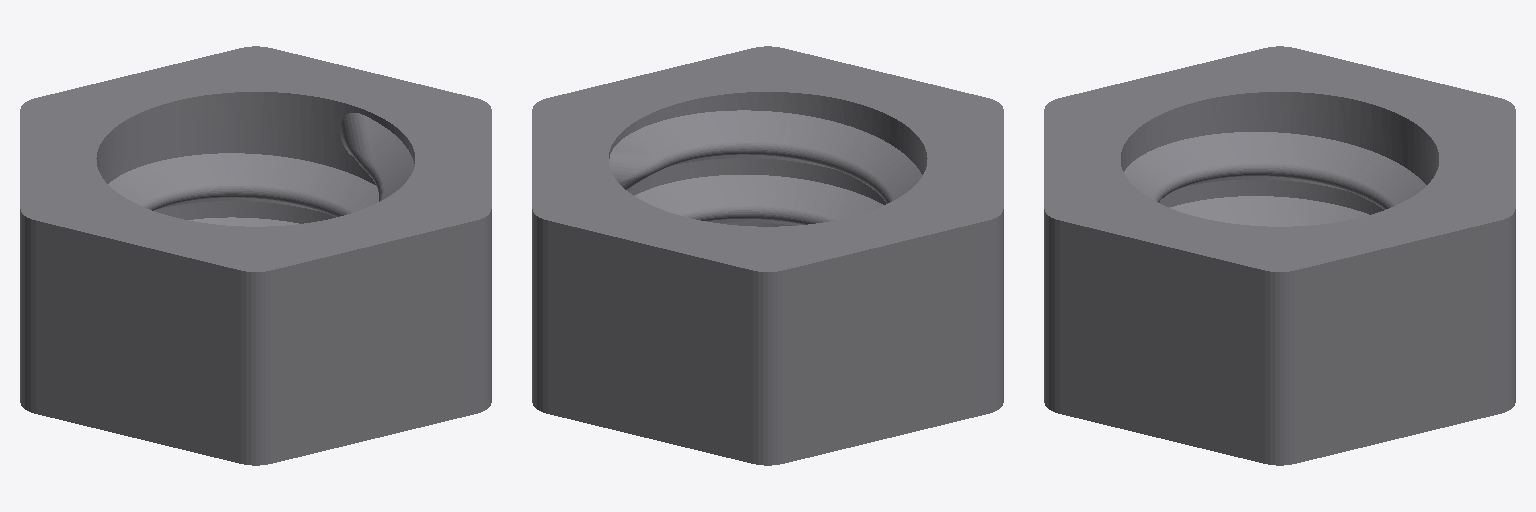
URDF robot description (cb_fst_nut):
<?xml version="1.0"?>
<!-- ContactBench fst_nut. Generated by FoundationTouch tools/contactbench/make_contactbench_assets.py -->
<robot name="cb_fst_nut">
  <material name="c"><color rgba="0.55 0.55 0.57 1.0"/></material>
  <link name="object">
    <visual><origin xyz="0 0 0" rpy="0 0 0"/><geometry><mesh filename="fst_nut.obj" scale="1 1 1"/></geometry><material name="c"/></visual>
    <collision><origin xyz="0 0 0" rpy="0 0 0"/><geometry><mesh filename="coll_00.obj" scale="1 1 1"/></geometry></collision>
    <collision><origin xyz="0 0 0" rpy="0 0 0"/><geometry><mesh filename="coll_01.obj" scale="1 1 1"/></geometry></collision>
    <collision><origin xyz="0 0 0" rpy="0 0 0"/><geometry><mesh filename="coll_02.obj" scale="1 1 1"/></geometry></collision>
    <collision><origin xyz="0 0 0" rpy="0 0 0"/><geometry><mesh filename="coll_03.obj" scale="1 1 1"/></geometry></collision>
    <collision><origin xyz="0 0 0" rpy="0 0 0"/><geometry><mesh filename="coll_04.obj" scale="1 1 1"/></geometry></collision>
    <collision><origin xyz="0 0 0" rpy="0 0 0"/><geometry><mesh filename="coll_05.obj" scale="1 1 1"/></geometry></collision>
    <collision><origin xyz="0 0 0" rpy="0 0 0"/><geometry><mesh filename="coll_06.obj" scale="1 1 1"/></geometry></collision>
    <collision><origin xyz="0 0 0" rpy="0 0 0"/><geometry><mesh filename="coll_07.obj" scale="1 1 1"/></geometry></collision>
    <collision><origin xyz="0 0 0" rpy="0 0 0"/><geometry><mesh filename="coll_08.obj" scale="1 1 1"/></geometry></collision>
    <collision><origin xyz="0 0 0" rpy="0 0 0"/><geometry><mesh filename="coll_09.obj" scale="1 1 1"/></geometry></collision>
    <inertial><mass value="0.000954"/><origin xyz="0 0 0" rpy="0 0 0"/><inertia ixx="2.529721e-08" ixy="9.498781e-16" ixz="-2.655914e-15" iyy="2.538667e-08" iyz="1.270446e-10" izz="4.315350e-08"/></inertial>
  </link>
</robot>

--- Render facts (derived) ---
Views: 3 orthographic renders of the robot side by side, from view 1: azimuth 30°, elevation 25°; view 2: azimuth 150°, elevation 25°; view 3: azimuth 270°, elevation 25°.
Robot: cb_fst_nut — 1 links, 0 joints (none); root link object; default pose: all joints at 0.
Links seen in each view (by area): view 1: object; view 2: object; view 3: object.
Link boxes in pixels (x1,y1,x2,y2): object: (20,46,491,465); object: (532,46,1003,465); object: (1044,46,1515,465).
Bounding box of the posed robot: 0.0176 × 0.0155 × 0.007 m (x, y, z).
1 mesh visuals loaded from 1 distinct referenced files (1 OBJ).
